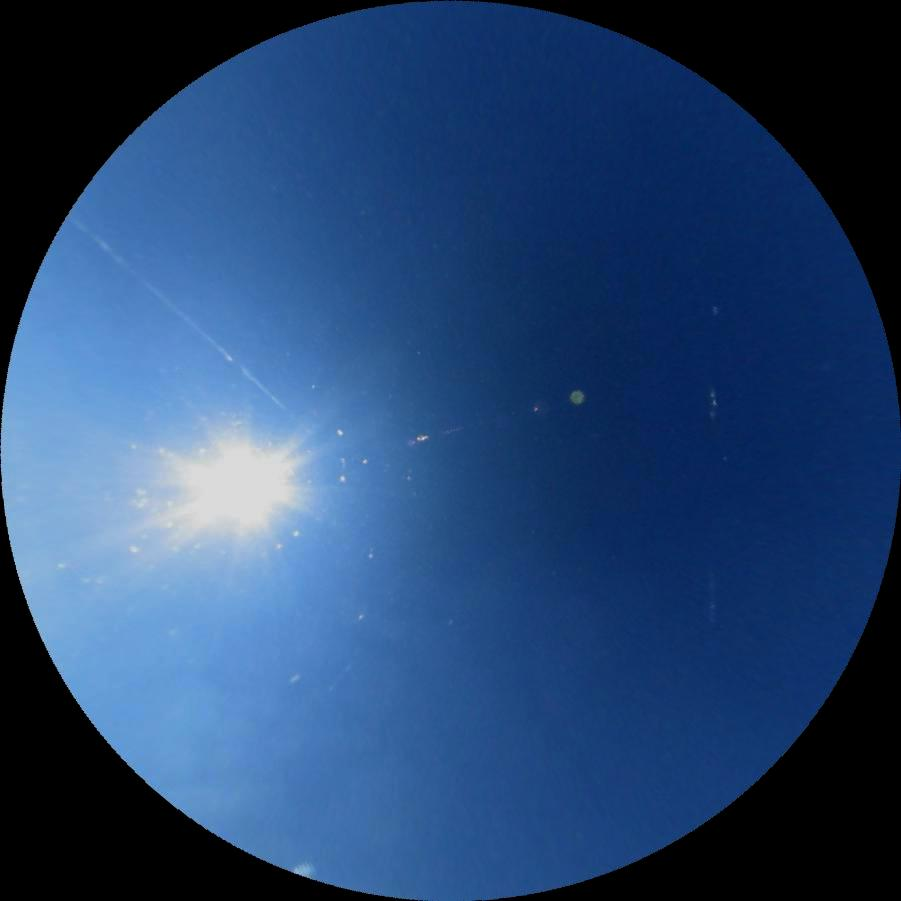parasite: (64, 211, 311, 432), (703, 386, 722, 427), (707, 567, 718, 624)
sun: (169, 435, 296, 531)
